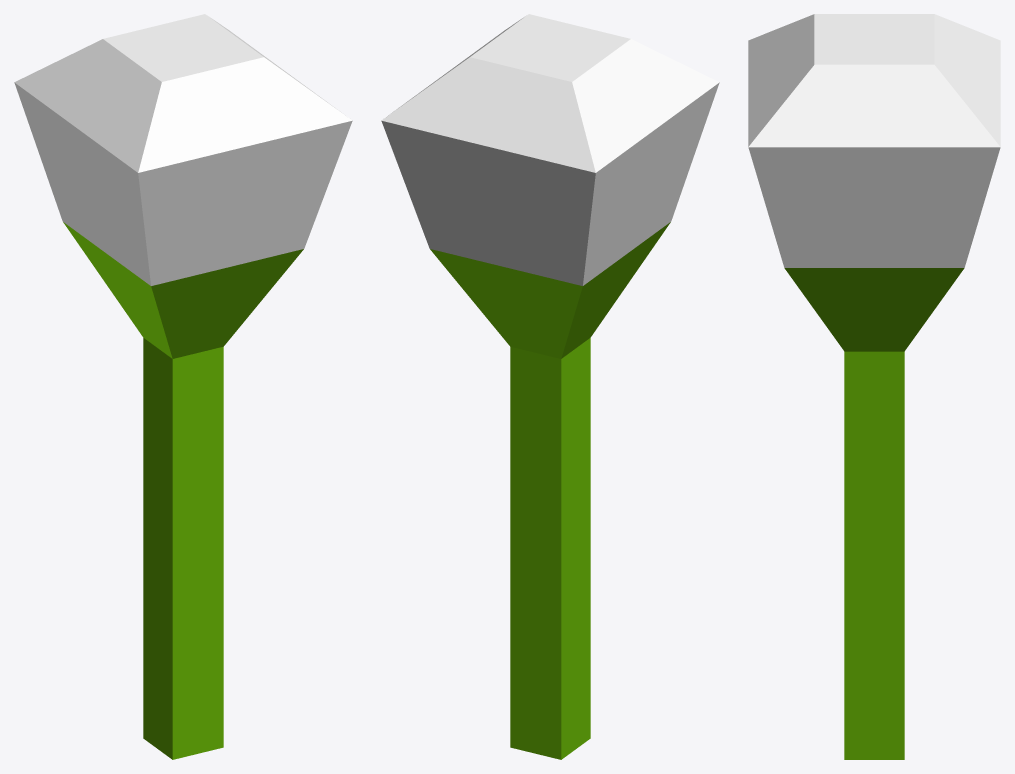
Rendered from Sprout_W.fbx.
3 renders of one model, left to right at view 1: azimuth 30°, elevation 25°; view 2: azimuth 150°, elevation 25°; view 3: azimuth 270°, elevation 25°, orthographic.
Parts seen in each view (by area): view 1: Flower_01_Bud; view 2: Flower_01_Bud; view 3: Flower_01_Bud.
Boxes of the visible parts, <box> form: Flower_01_Bud: <box>14,14,352,759</box>; Flower_01_Bud: <box>381,14,719,759</box>; Flower_01_Bud: <box>748,14,1000,759</box>.
Bounding box in the file's own units: 5.04 × 15.6 × 5.04.
Materials: 1 (1 with a texture image).
